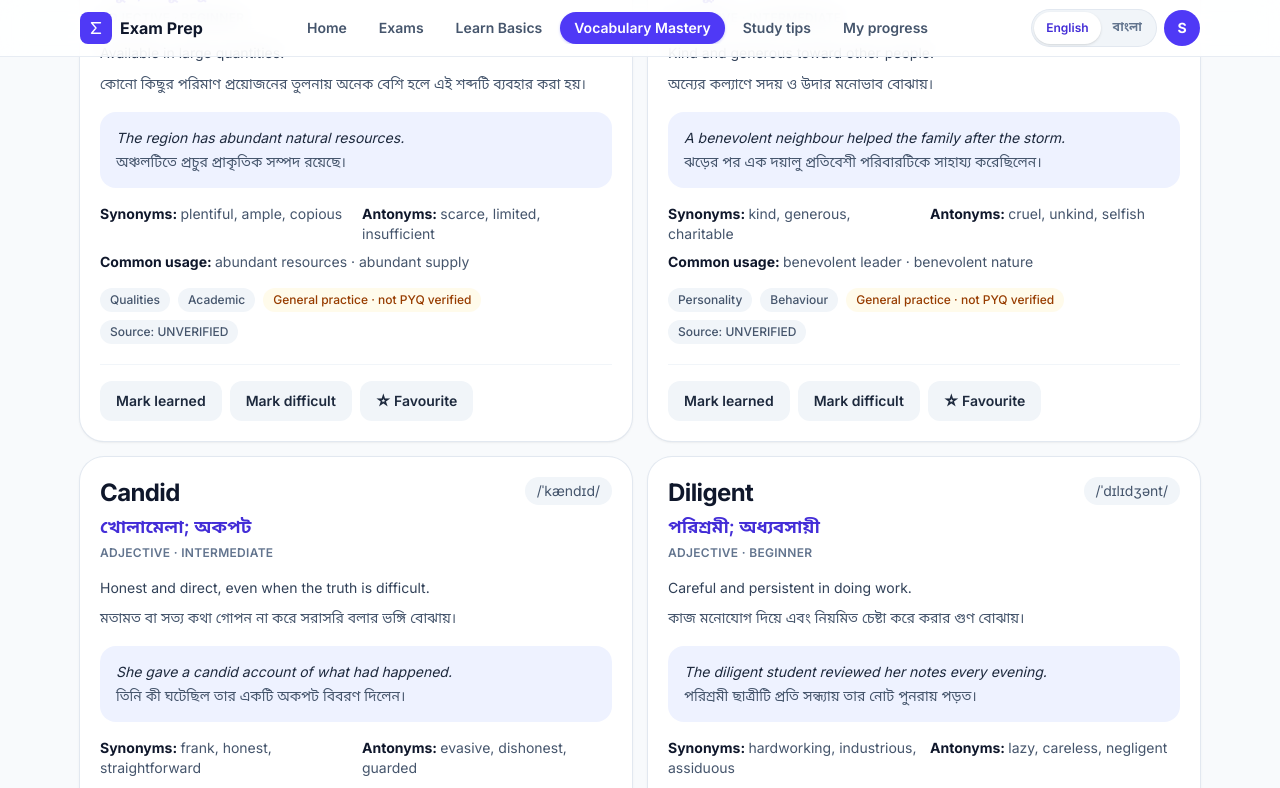
Scenario: Vocabulary Mastery › saves learned status and the selected daily goal for a signed-in learner
(page scrolled)
Click the button "Mark learned" below "abundant resources · abundant supply" at [161, 400], box [100,380,222,420]
(page scrolled)
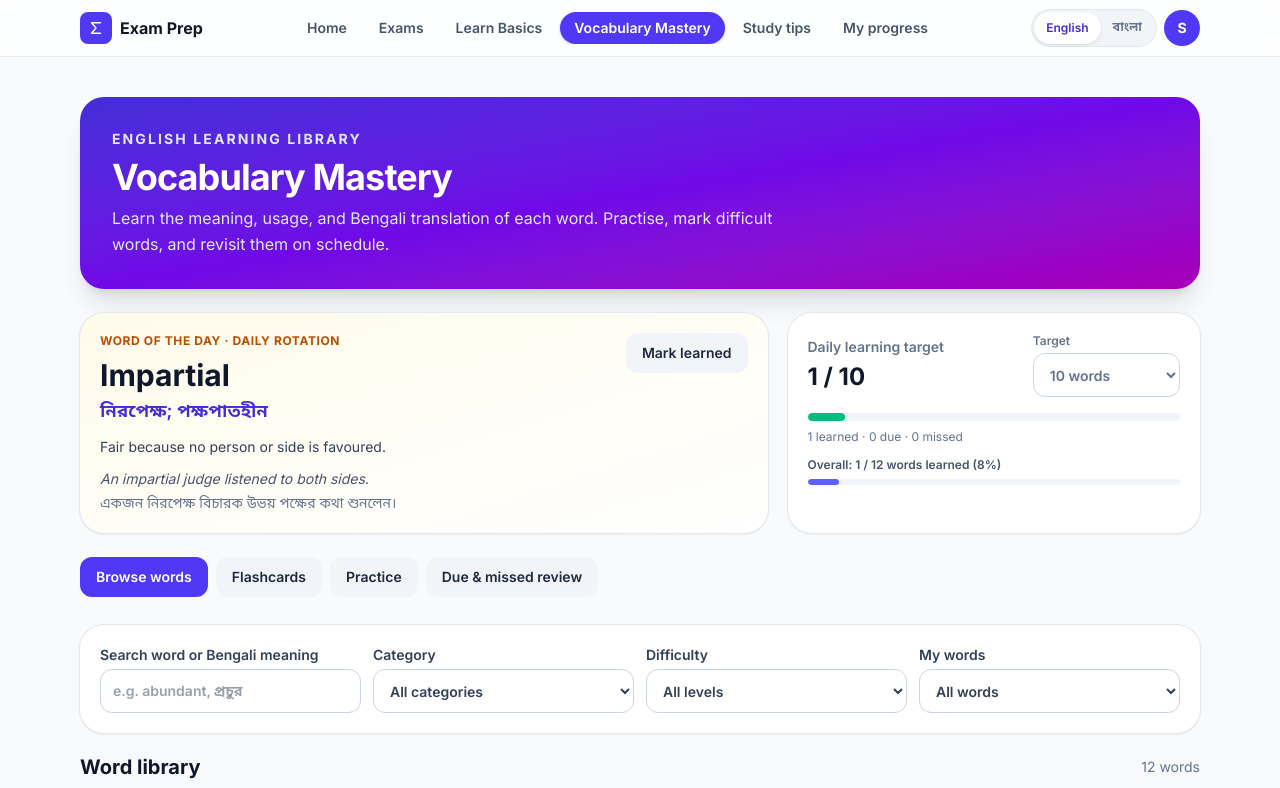
Select "15 words" in the dropdown named "Daily word target" at [1106, 375], box [1033,353,1180,397]
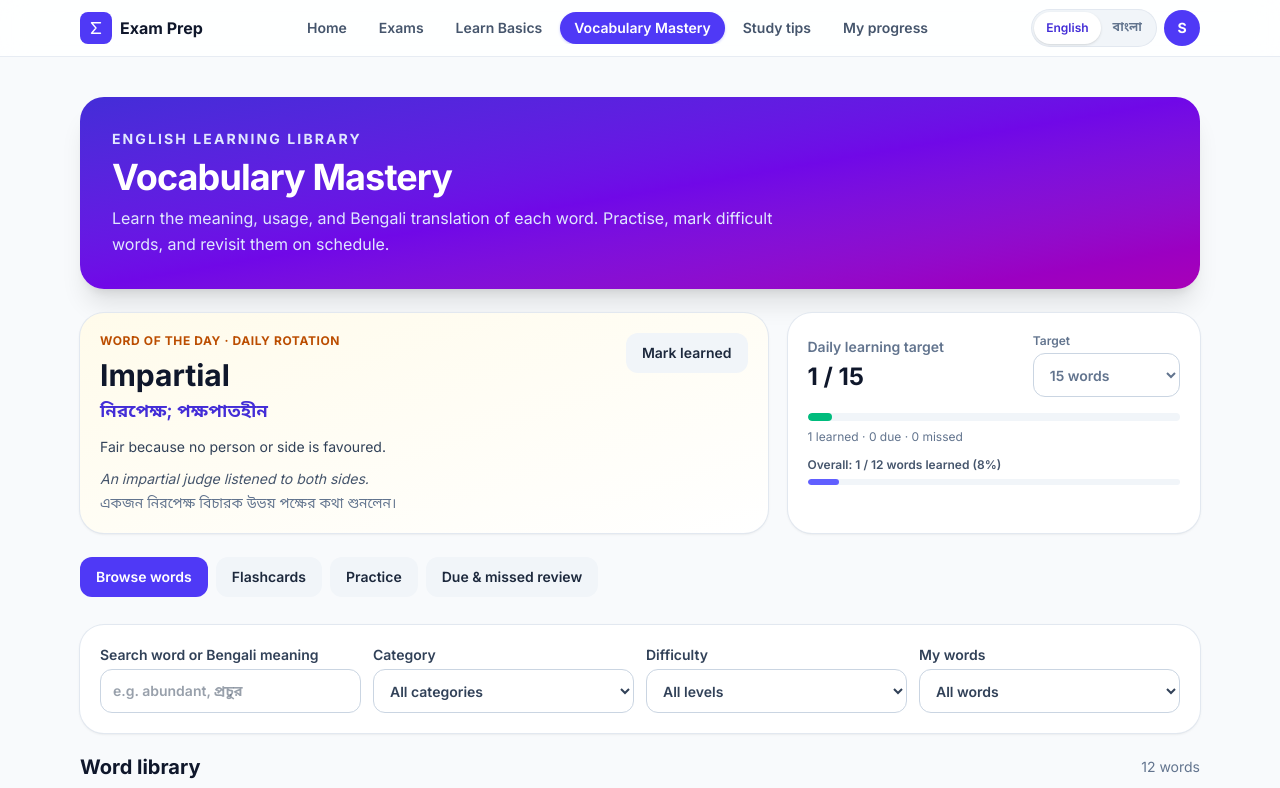
Expected: the text "1 / 15" is shown, [808,362,864,391]
